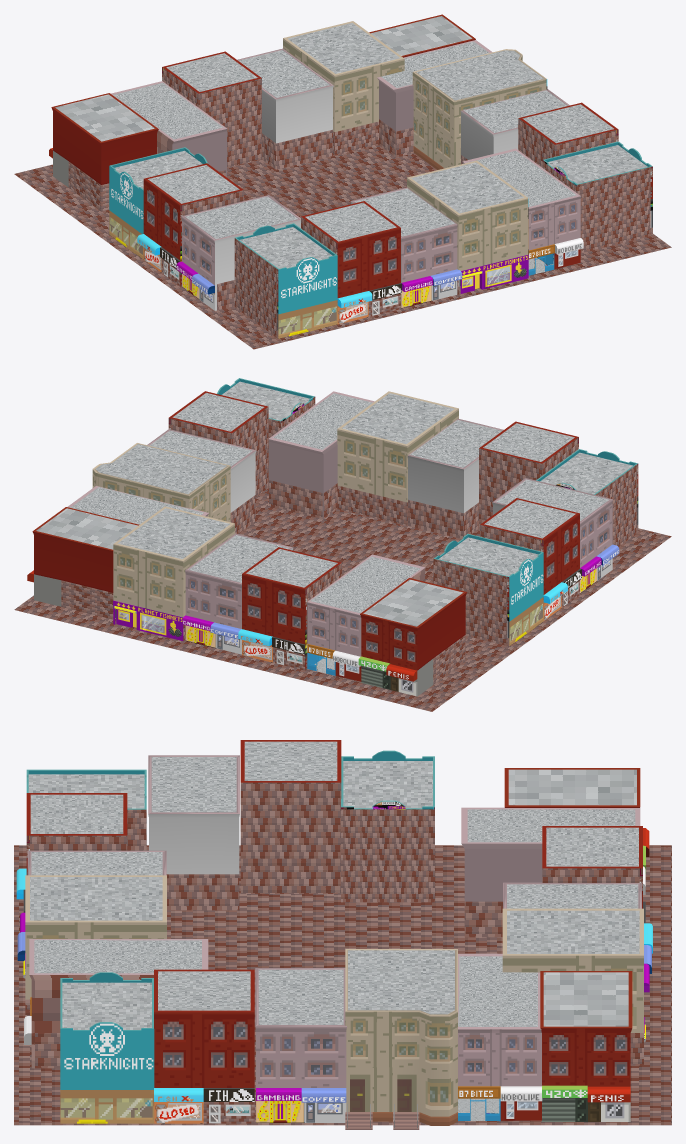
The model's file is full_block_2.glb.
3 renders of one model, top to bottom at view 1: azimuth 30°, elevation 25°; view 2: azimuth 150°, elevation 25°; view 3: azimuth 270°, elevation 25°, orthographic. The views are drawn at different scales.
Parts seen in each view (by area): view 1: Cube.004; view 2: Cube.004; view 3: Cube.004.
Part boxes in pixels (x1,y1,x2,y2): Cube.004: (14, 14, 671, 349); Cube.004: (14, 378, 671, 711); Cube.004: (14, 740, 671, 1129).
Bounding box in the file's own units: 75.27 × 13.76 × 73.3.
Materials: 5 (4 with a texture image).
